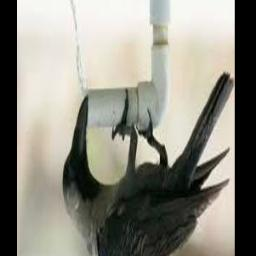Crow: (62, 72, 233, 256)
